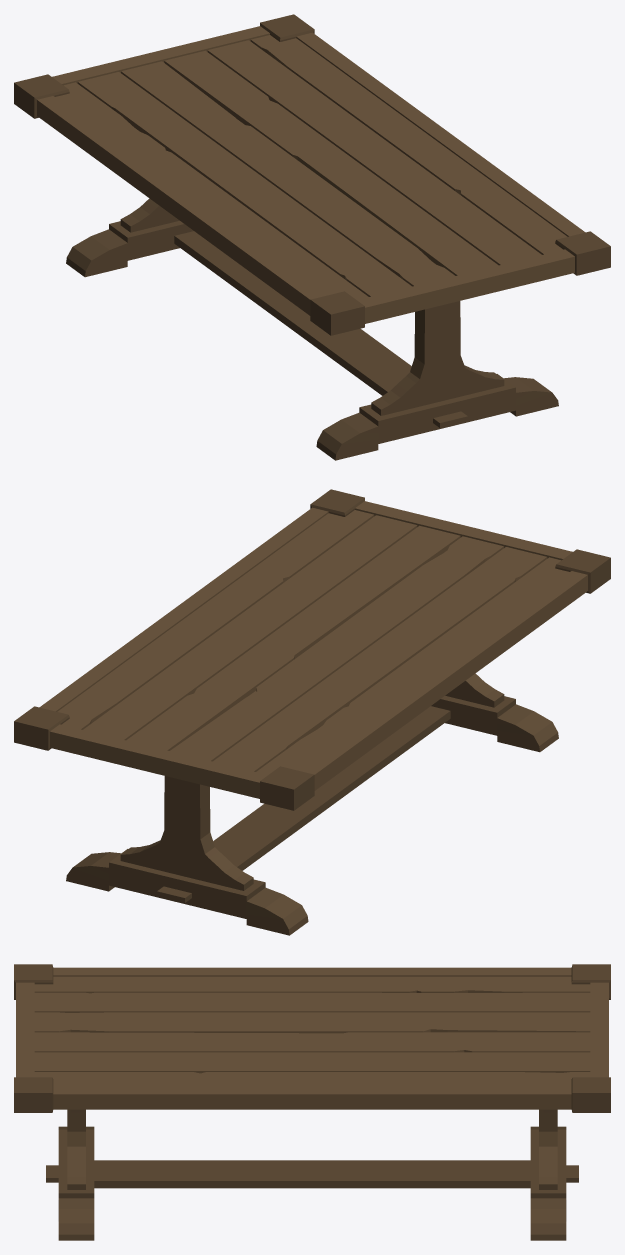
File: table.glb
The picture shows the model from 3 angles, top to bottom: view 1: azimuth 30°, elevation 25°; view 2: azimuth 150°, elevation 25°; view 3: azimuth 270°, elevation 25°; orthographic projection. The views are drawn at different scales.
Visible parts, largest first — view 1: Table; view 2: Table; view 3: Table.
Part boxes in pixels (left/top/right/bottom): Table: left=14, top=14, right=610, bottom=460; Table: left=14, top=489, right=610, bottom=935; Table: left=14, top=964, right=610, bottom=1240.
Bounding box in the file's own units: 1.42 × 0.8244 × 2.78.
